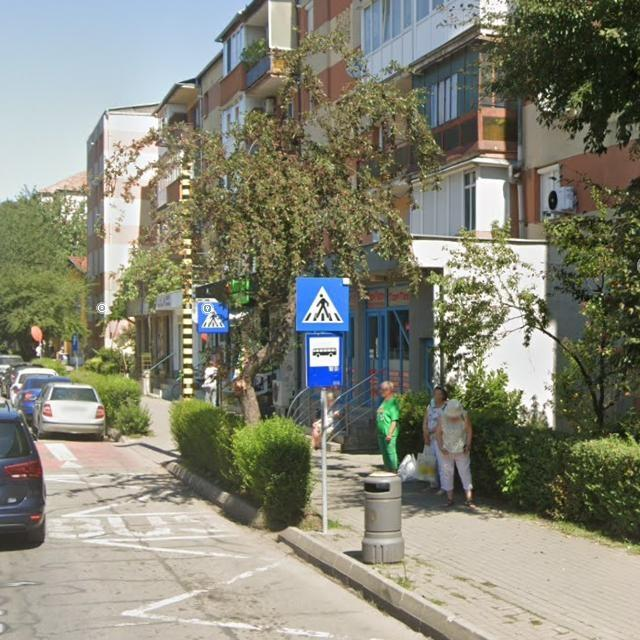info_crosswalk: (296, 277, 351, 334), (196, 300, 229, 334)
